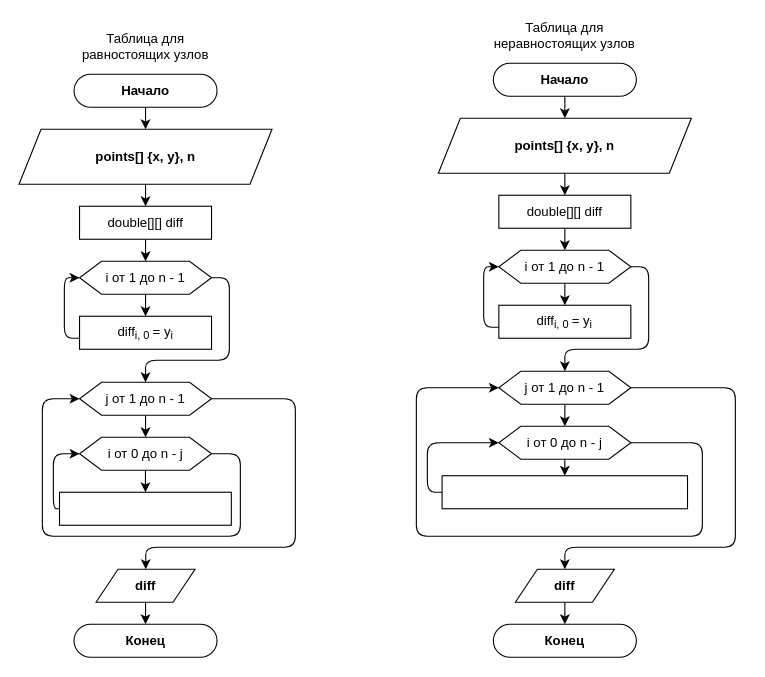
Image size: 765x677. Some labels were removed from this diagram. Each missing label, with the centre of its shape:
"diff i, j = (diff i+1, j - 1 - diff i, j - 1 ) / (x i+j - x i )" goes at (x=564, y=492).
"diff i, j = diff i+1, j - 1 - diff i, j - 1" goes at (x=144, y=508).
